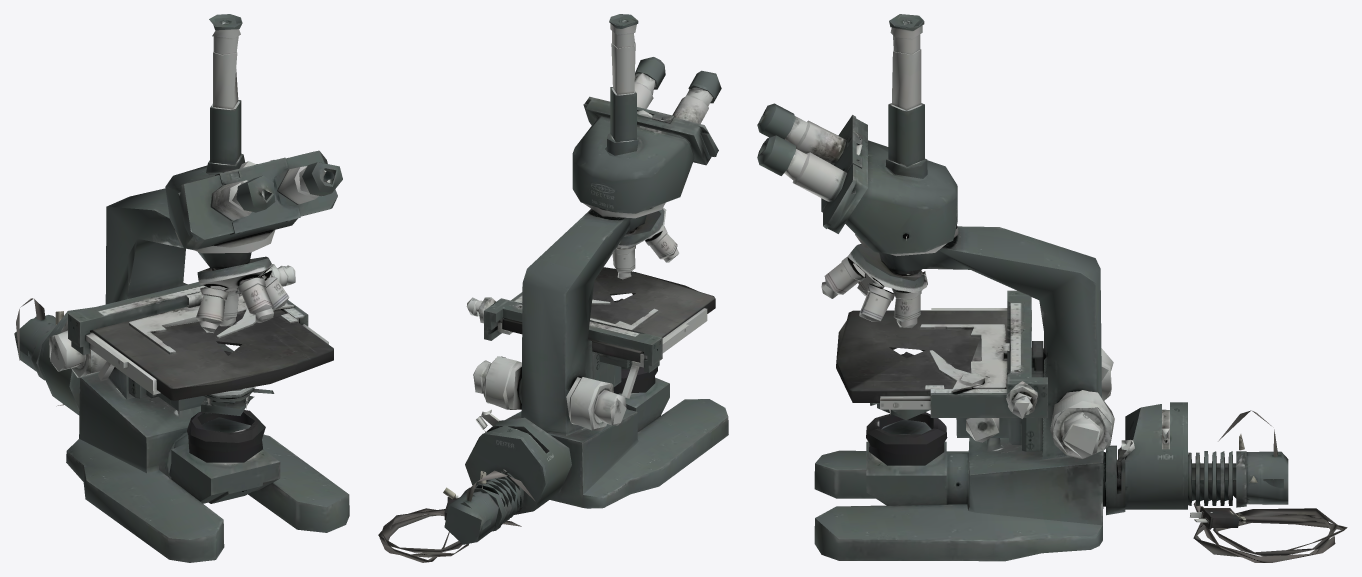
The model's file is industrial_microscope.glb.
The picture shows the model from 3 angles, left to right: view 1: azimuth 30°, elevation 25°; view 2: azimuth 150°, elevation 25°; view 3: azimuth 270°, elevation 25°; orthographic projection. The views are drawn at different scales.
Visible parts, largest first — view 1: industrial_microscope_cable; view 2: industrial_microscope_cable; view 3: industrial_microscope_cable.
Boxes of the visible parts, left/top/right/bottom form: industrial_microscope_cable: left=14, top=14, right=349, bottom=562; industrial_microscope_cable: left=378, top=14, right=728, bottom=562; industrial_microscope_cable: left=757, top=14, right=1347, bottom=562.
Bounding box in the file's own units: 0.2145 × 0.4606 × 0.4967.
1 material, 1 textured.
